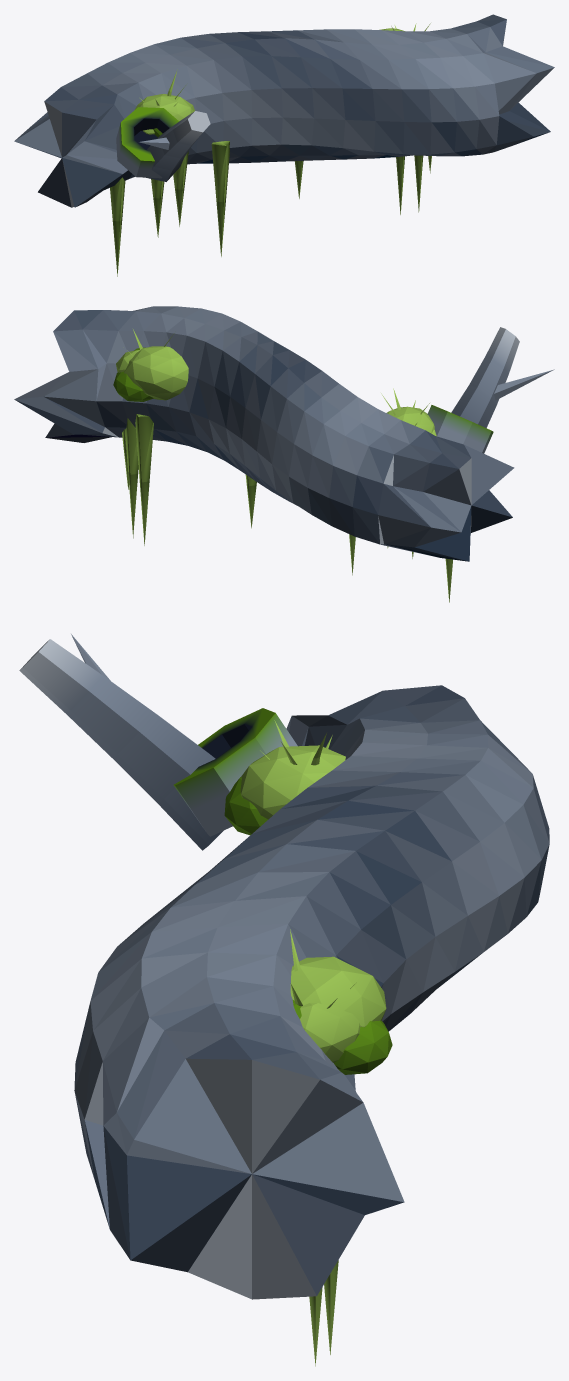
The model's file is pohon_tumbang_bridge_driftwood_588590.glb.
3 renders of one model, top to bottom at view 1: azimuth 30°, elevation 25°; view 2: azimuth 150°, elevation 25°; view 3: azimuth 270°, elevation 25°, orthographic. The views are drawn at different scales.
Parts seen in each view (by area): view 1: Batang_Melintang_Sungai; view 2: Batang_Melintang_Sungai; view 3: Batang_Melintang_Sungai.
Boxes of the visible parts, x1,y1,x2,y2 form: Batang_Melintang_Sungai: (14, 14, 554, 276); Batang_Melintang_Sungai: (14, 306, 554, 602); Batang_Melintang_Sungai: (19, 634, 549, 1366).
Bounding box in the file's own units: 5.15 × 2.45 × 2.62.
